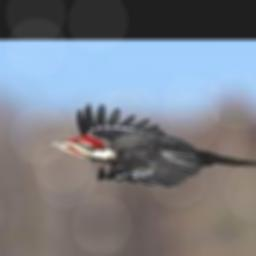Woodpecker: (41, 102, 256, 187)
